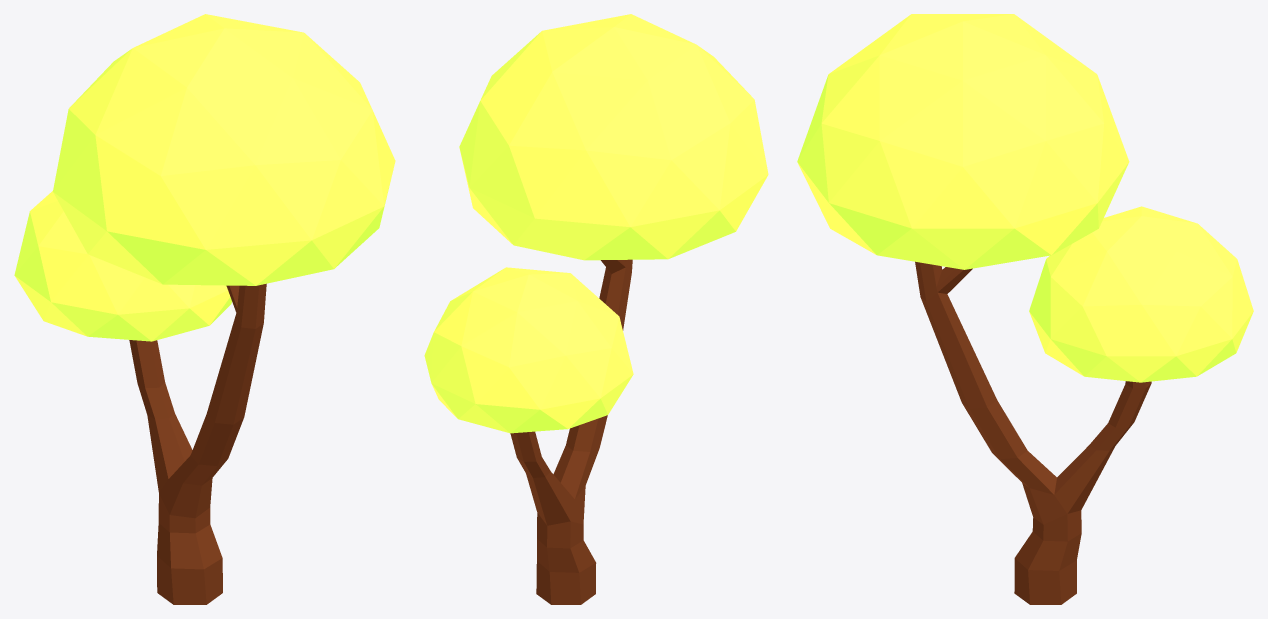
File: maple1.glb
The picture shows the model from 3 angles, left to right: view 1: azimuth 30°, elevation 25°; view 2: azimuth 150°, elevation 25°; view 3: azimuth 270°, elevation 25°; orthographic projection. The views are drawn at different scales.
Parts seen in each view (by area): view 1: Tree1; view 2: Tree1; view 3: Tree1.
Part boxes in pixels (x1,y1,x2,y2): Tree1: (14,14,395,604); Tree1: (424,14,768,604); Tree1: (797,14,1253,604).
Bounding box in the file's own units: 207 × 410 × 299.
